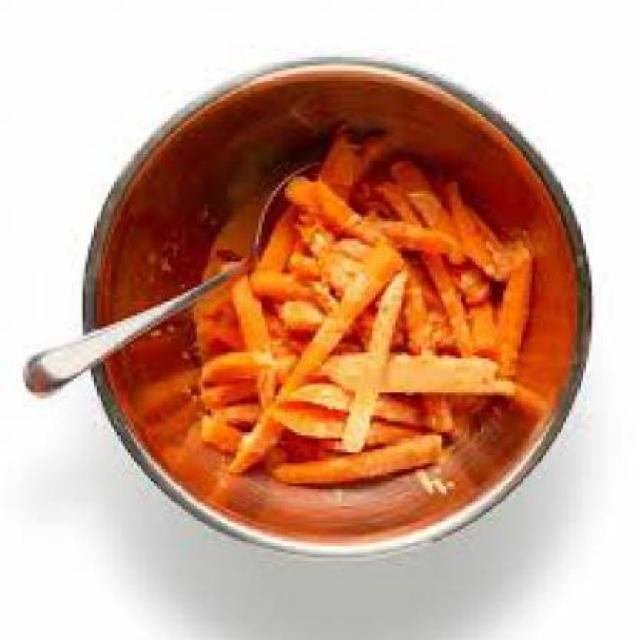fries: (179, 125, 541, 484)
